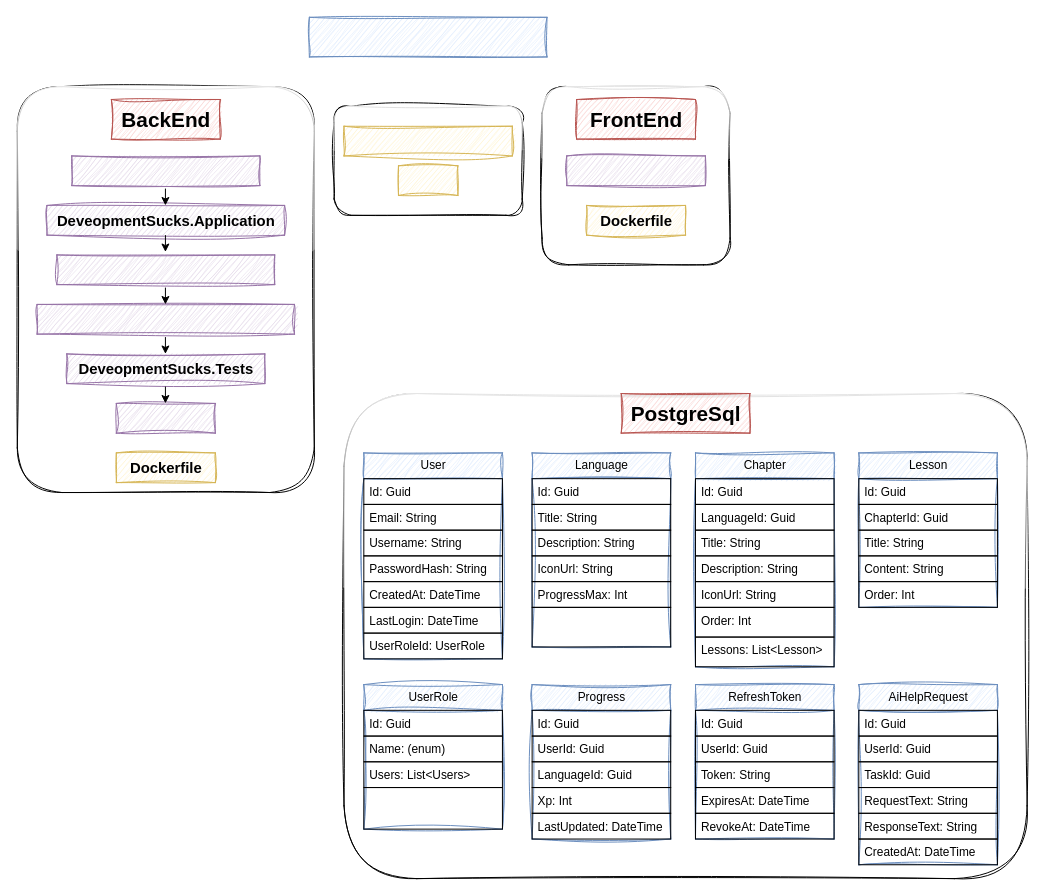
The diagram is 1044 pixels wide and 896 high, and some of its shapes have lost their labels. Here are the shapes that lost their labels. From the top down, the centre of each, then its label:
At point 427,36: "DevelopmentSucks 2.0".
At point 427,140: "docker-compose.yml".
At point 165,170: "DeveopmentSucks.API".
At point 427,180: "nginx".
At point 635,170: "React + Tailwind".
At point 165,269: "DeveopmentSucks.Domain".
At point 165,318: "DeveopmentSucks.Infrastructure".
At point 165,417: "Subscriber".
At point 601,626: "Chapters: List<Chapter>".
At point 432,808: "Admin, Teacher, Student".
